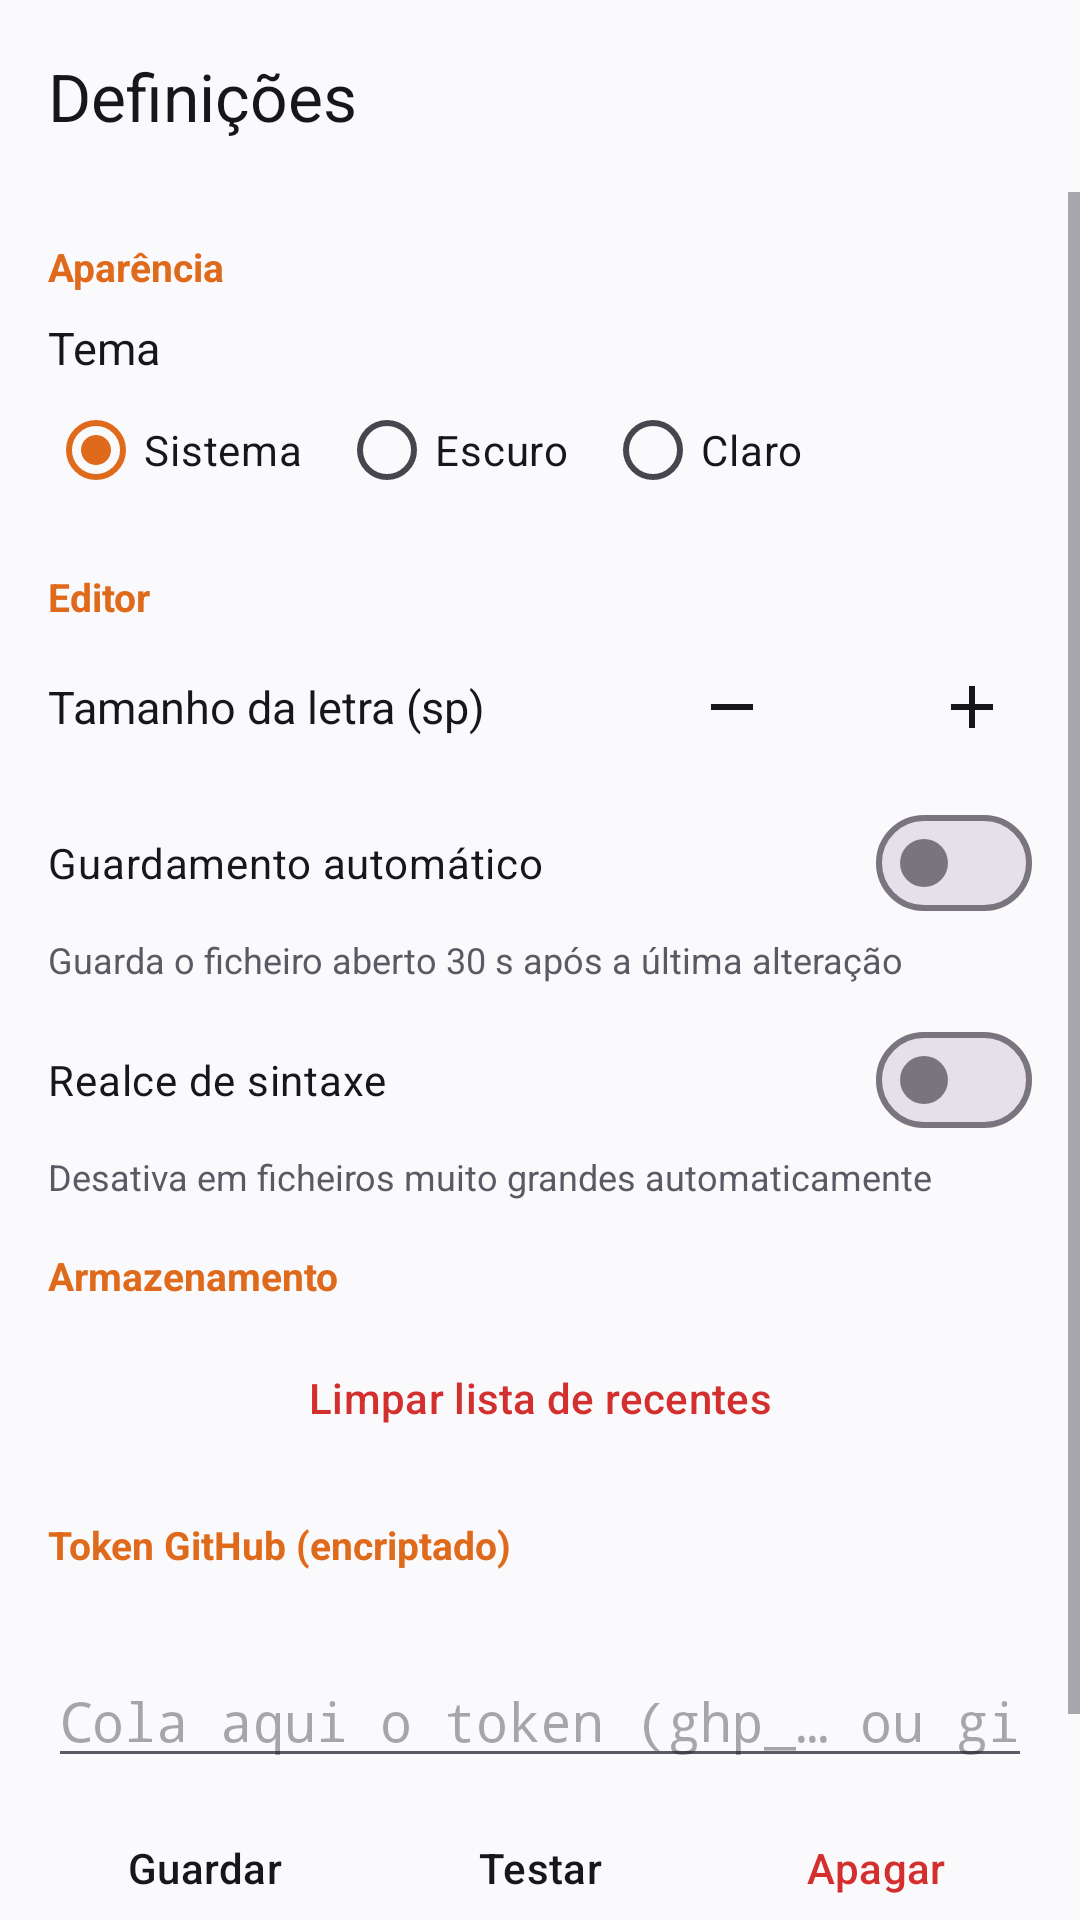

Screen size 1080w x 1920h. Icon name, then its center in pixels as [x,y]:
Aumentar letra: [972,707]
